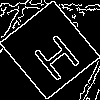H: (25, 25, 83, 84)
